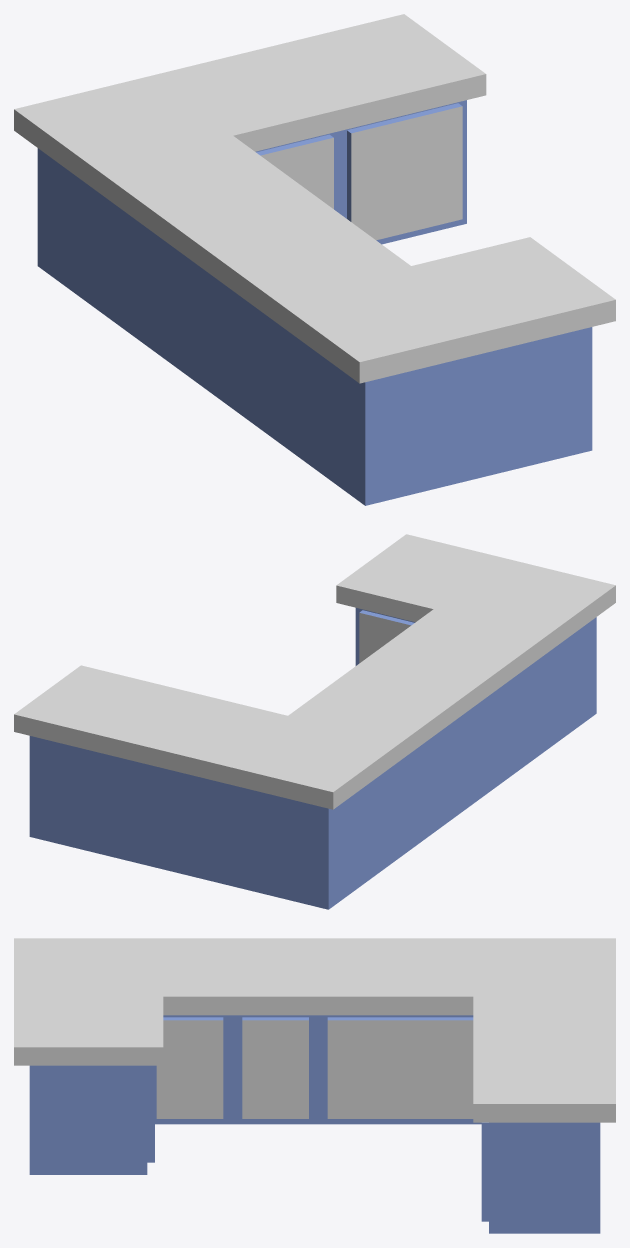
File: desk.fbx
3 renders of one model, top to bottom at view 1: azimuth 30°, elevation 25°; view 2: azimuth 150°, elevation 25°; view 3: azimuth 270°, elevation 25°, orthographic. The views are drawn at different scales.
Parts seen in each view (by area): view 1: desk; view 2: desk; view 3: desk.
Part boxes in pixels (x1,y1,x2,y2): desk: [14, 14, 615, 505]; desk: [14, 534, 615, 909]; desk: [14, 938, 615, 1233].
Size of the model in its own units: 491 by 185 by 753.
